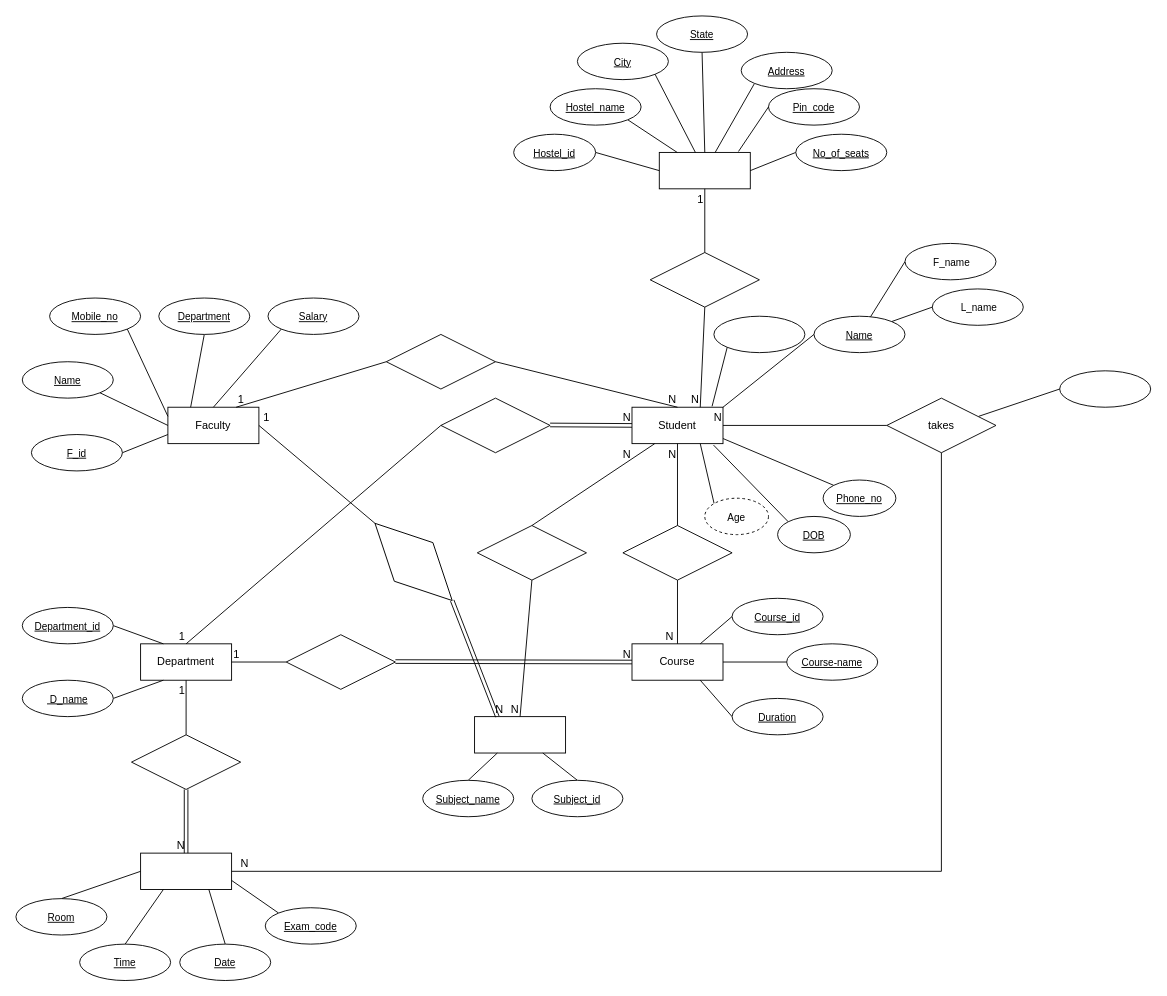
Image size: 1167x996. Some labels were removed from this diagram. The shapes that lost their labels are listed below. From the top down, each one's centre as x and y in pixels, then its label:
the point at 704,170: Hostel
the point at 704,279: lives_in
the point at 759,334: S_id
the point at 440,361: teaches
the point at 1105,388: Grade
the point at 495,425: belongs
the point at 413,561: handels
the point at 531,552: takes_subjects
the point at 677,552: enrolls_in
the point at 340,661: handles
the point at 520,734: Subject
the point at 186,761: conduct
the point at 186,871: Exams
